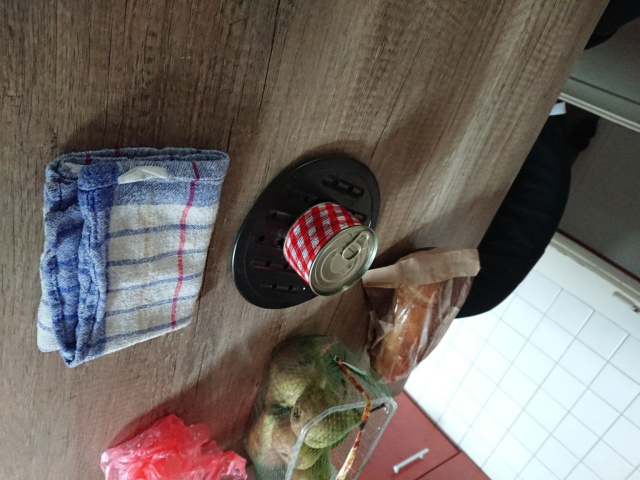Podravka Luncheon Meat 150g: (279, 199, 381, 300)
